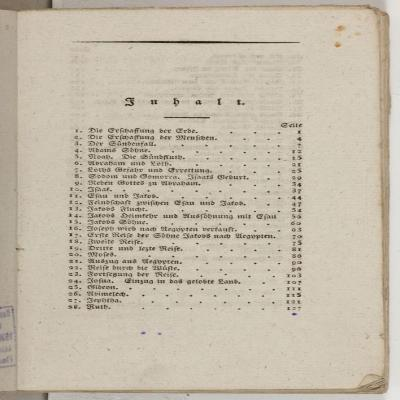rare_books: (0, 8, 389, 392)
